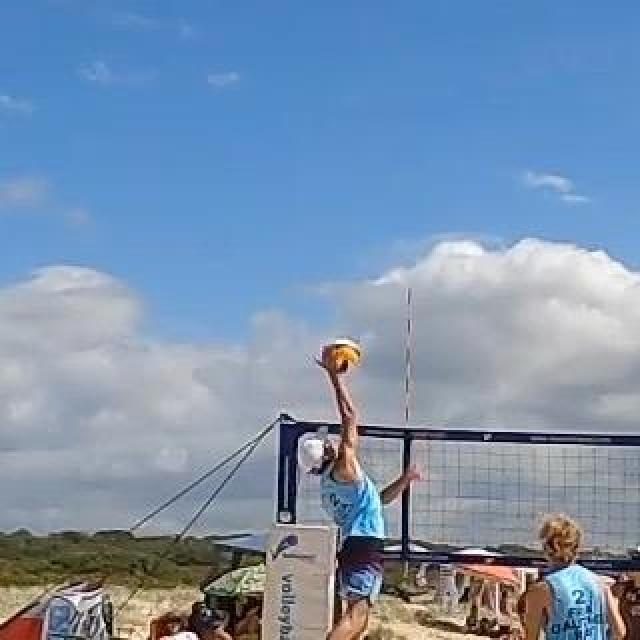volleyball: (323, 339, 361, 375)
